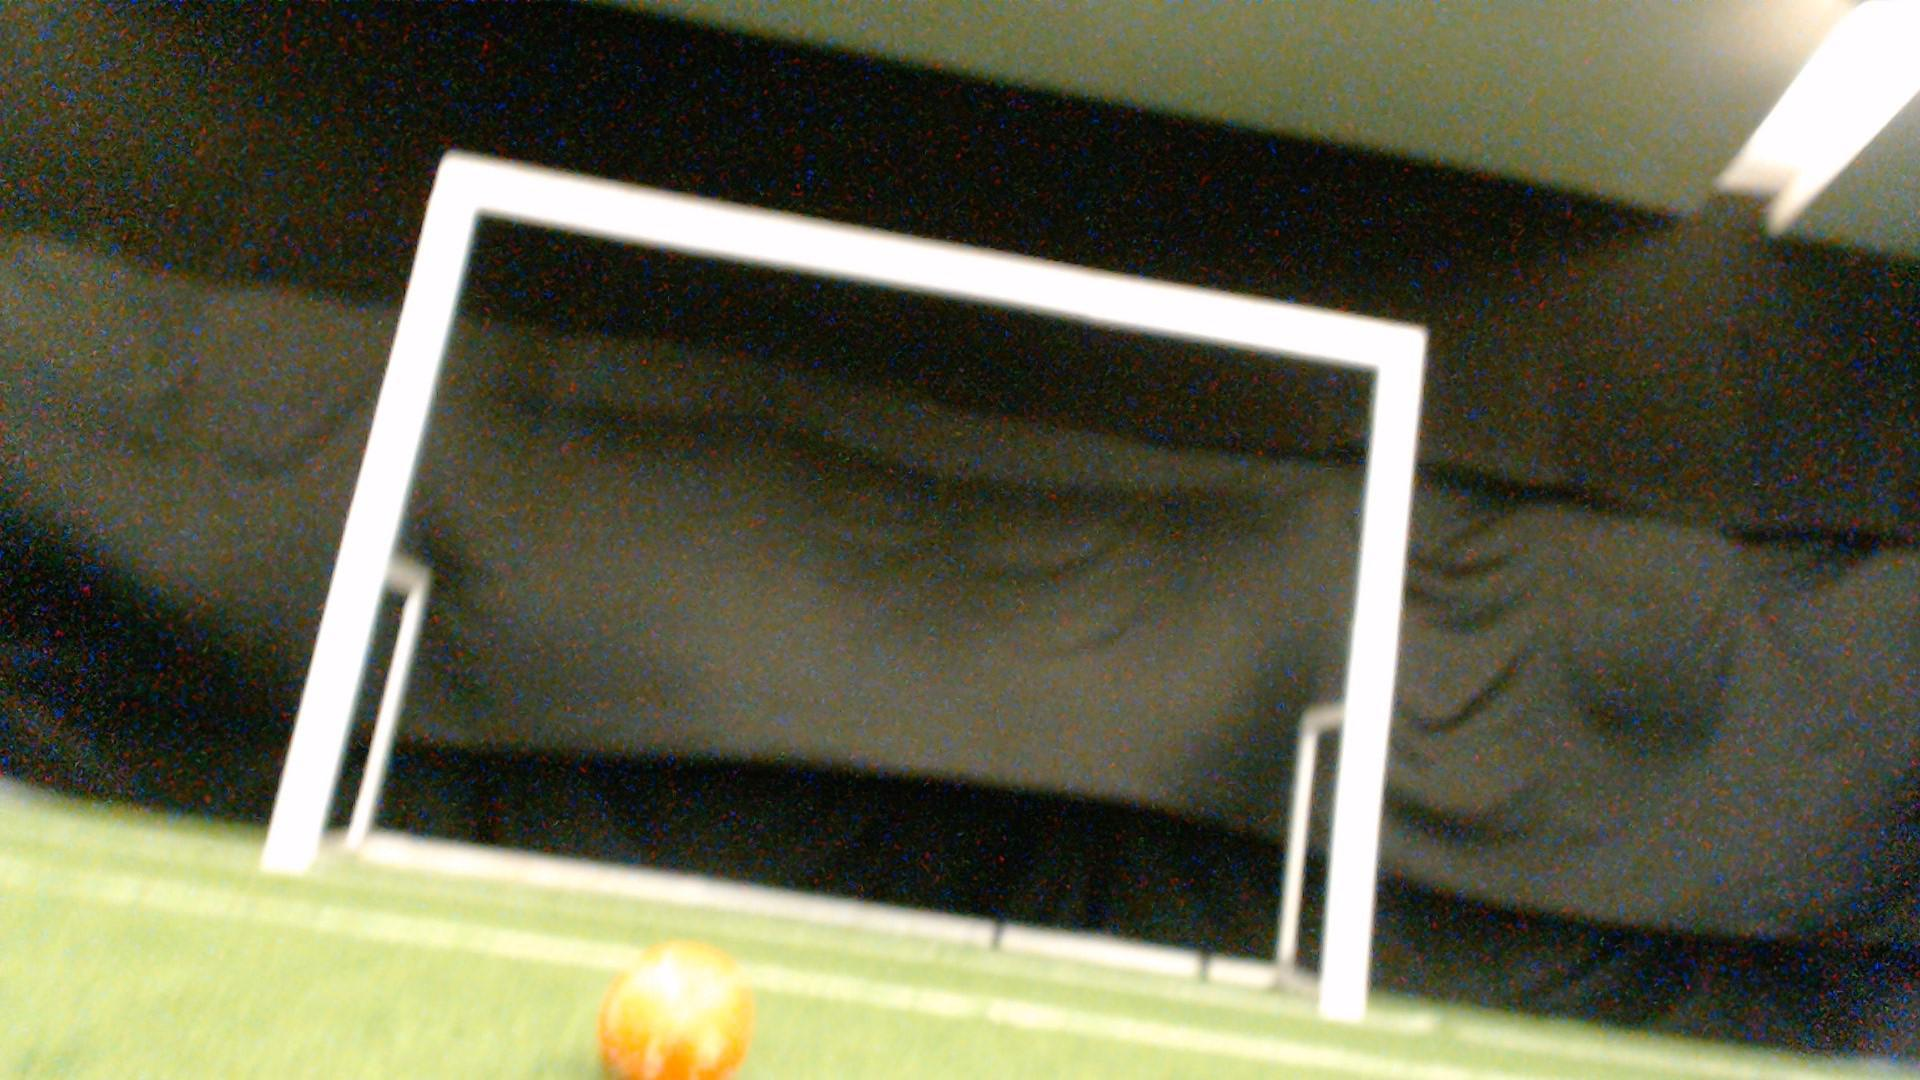bola: (567, 935, 771, 1079)
